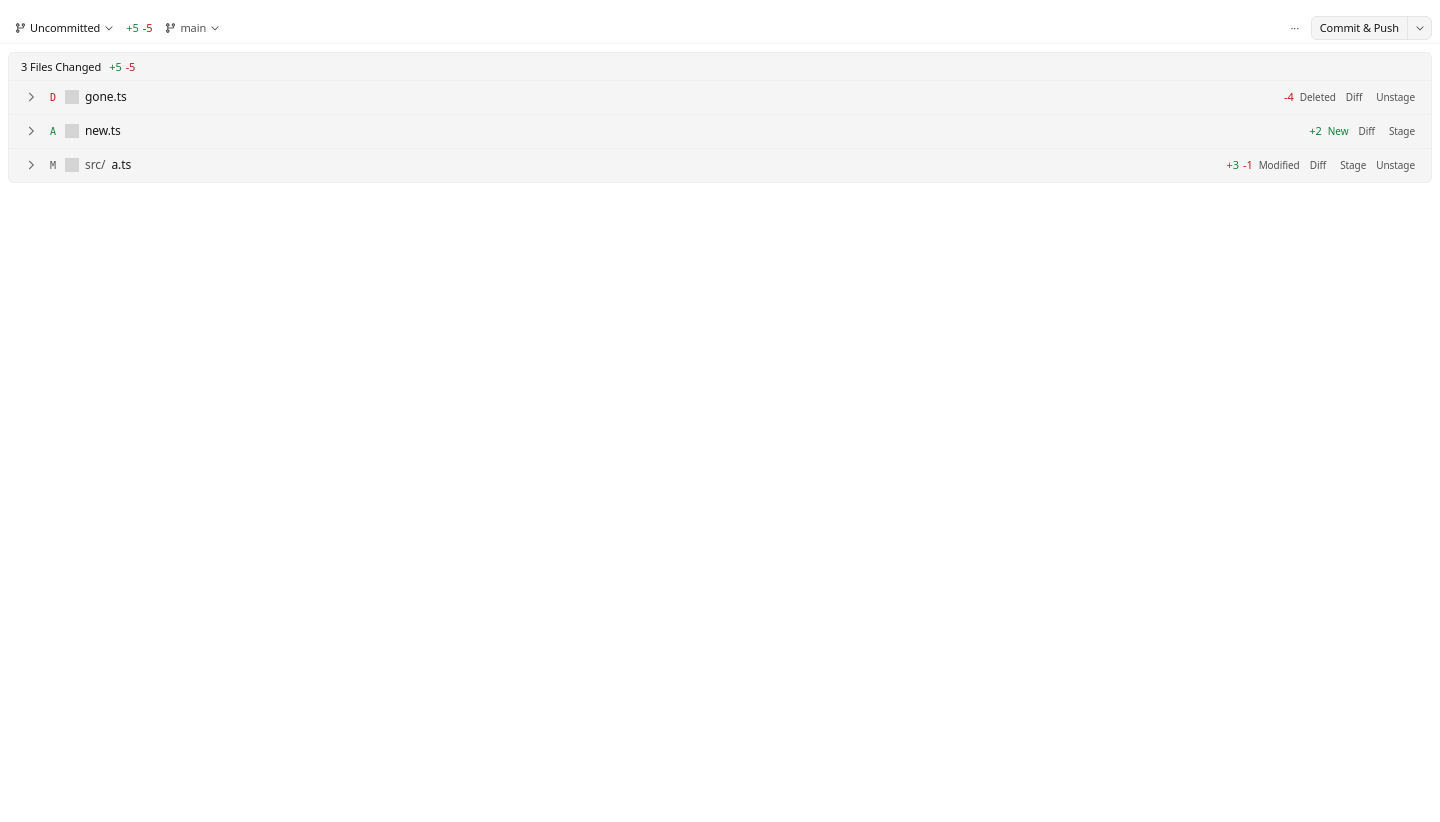
ChangesPanel › shows files changed in a selected commit
This screenshot has width=1440, height=822.
Step 1. Click the button "Uncommitted" → (64, 28), box [8, 16, 120, 40]
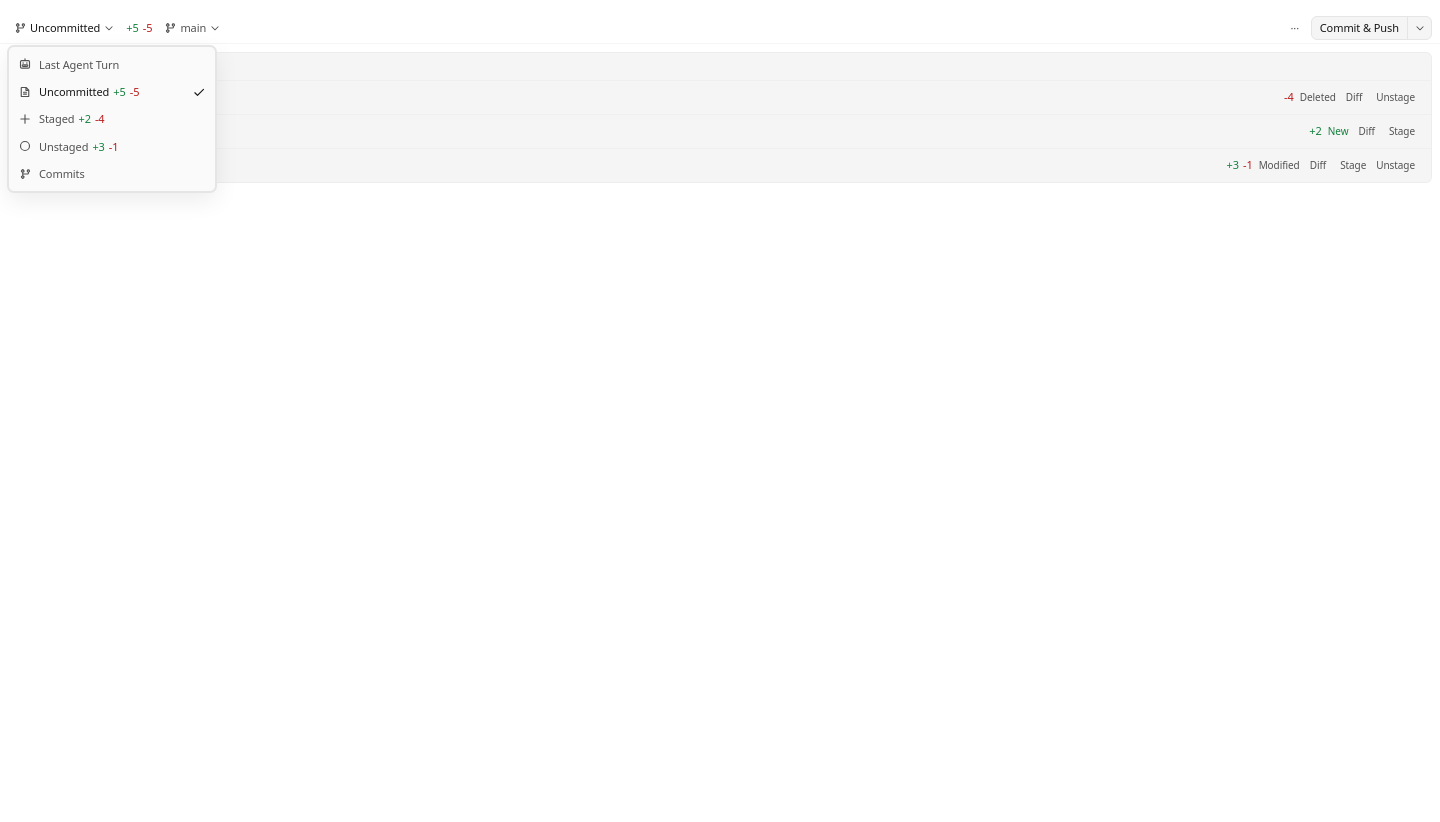
Step 2. Click the menu item "Commits" → (112, 174), box [9, 160, 215, 188]
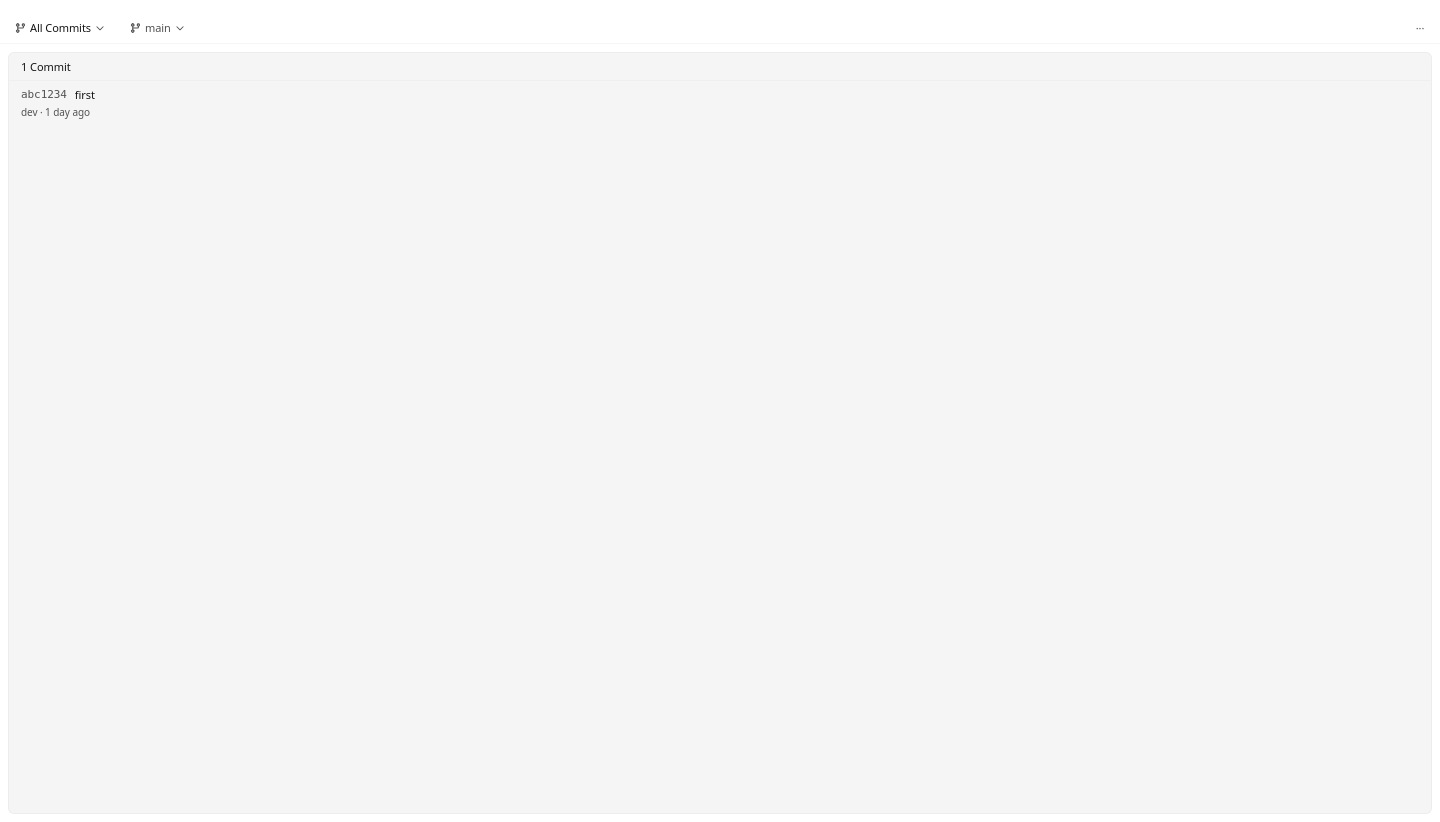
Step 3. Click the button "abc1234 first dev · 1 day ago" → (44, 95), box [9, 81, 1431, 125]
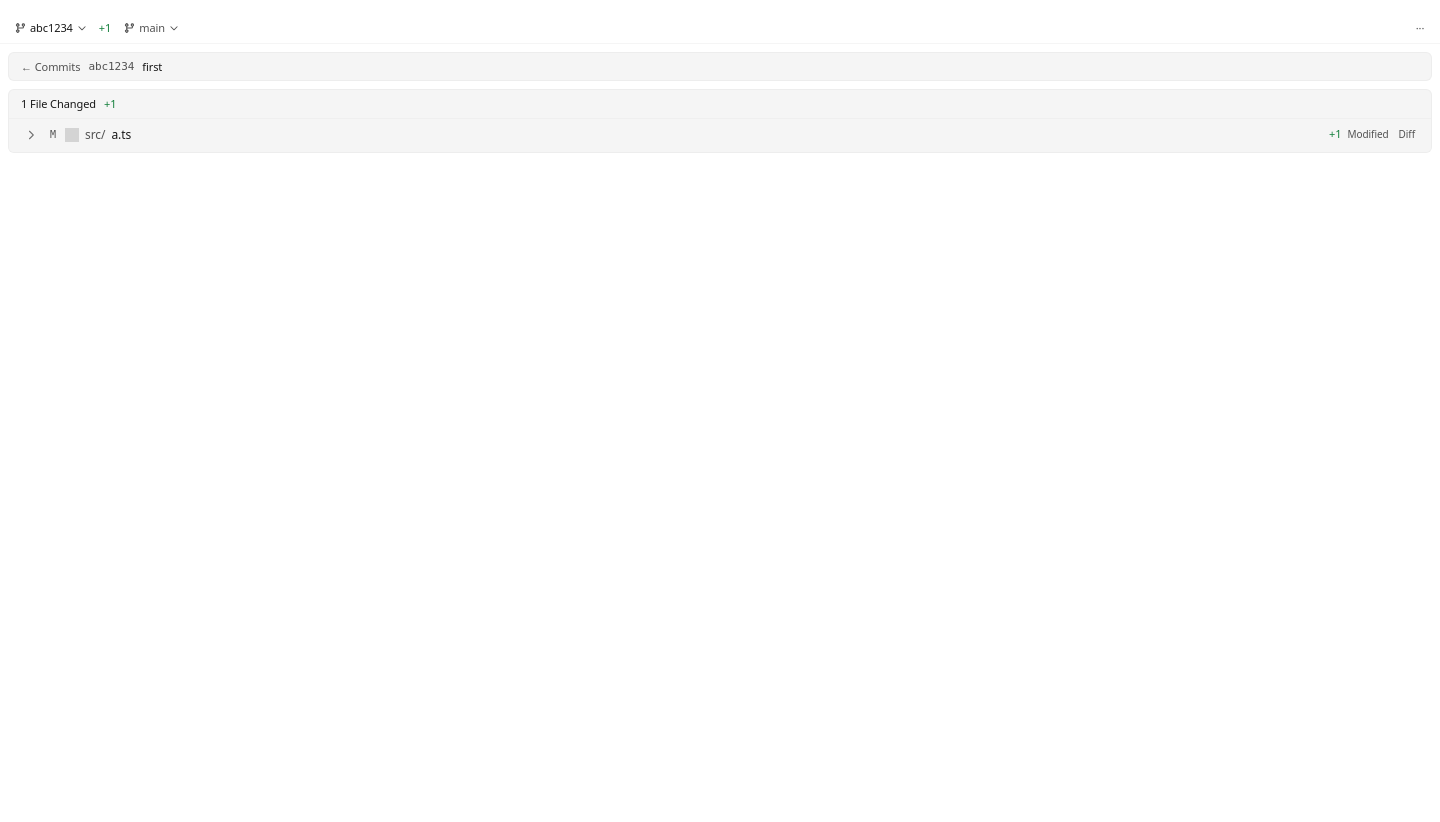
expect the text "1 File Changed+1" is shown: met, box [9, 90, 1431, 119]
